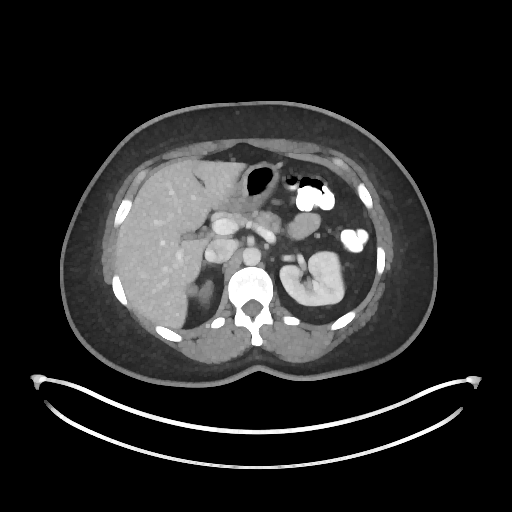Lesion: (185, 283, 201, 298)
